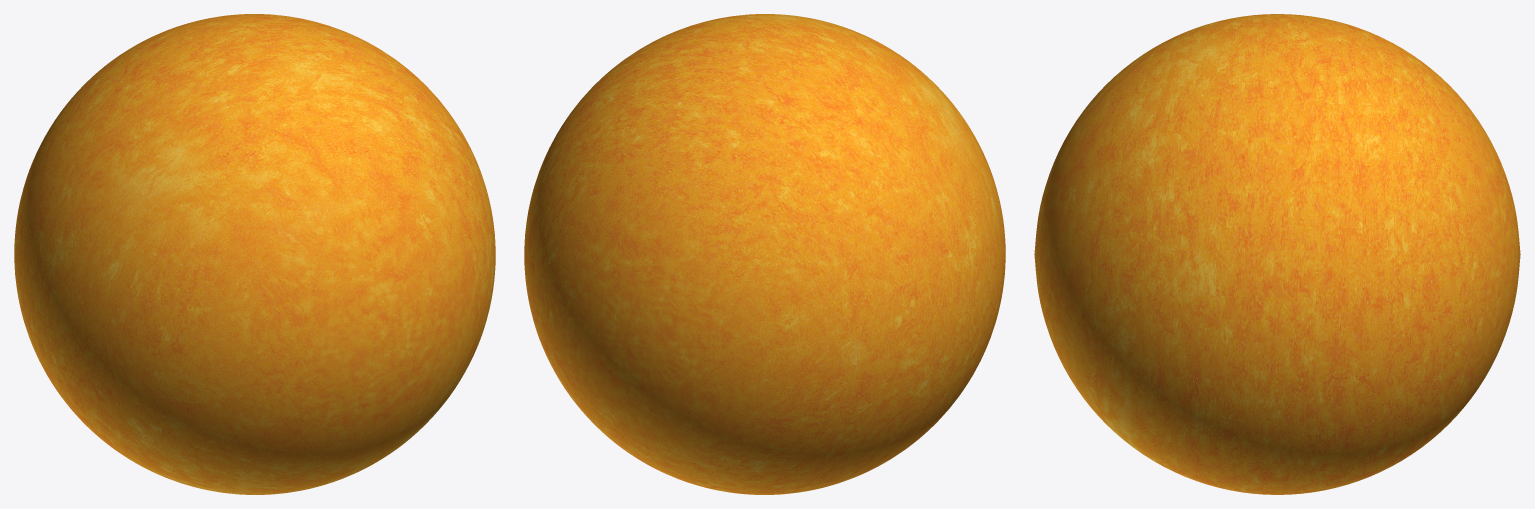
The model's file is Sun.obj.
3 renders of one model, left to right at view 1: azimuth 30°, elevation 25°; view 2: azimuth 150°, elevation 25°; view 3: azimuth 270°, elevation 25°, orthographic.
Parts seen in each view (by area): view 1: 13913_Sun_v2_l3; view 2: 13913_Sun_v2_l3; view 3: 13913_Sun_v2_l3.
Part boxes in pixels (x1,y1,x2,y2): 13913_Sun_v2_l3: (14, 14, 495, 494); 13913_Sun_v2_l3: (524, 14, 1005, 494); 13913_Sun_v2_l3: (1034, 14, 1520, 494).
Bounding box in the file's own units: 8.43 × 8.43 × 8.52.
